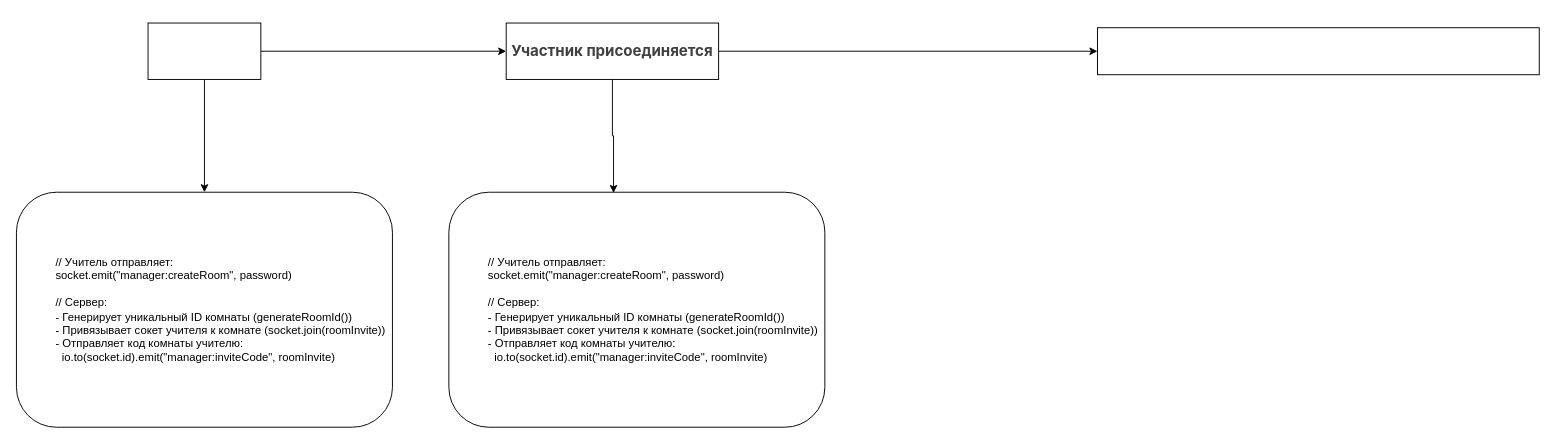
Some shapes in this 1556 by 444 pixel diagram are drawn without their labels. Here are the shapes that lost their labels. From the top down, the box of each, then its label:
(147, 22, 261, 79): Создание комнаты учителем
(1097, 27, 1539, 75): 2. Ожидание начала Quiz (Real-Time Updates)
